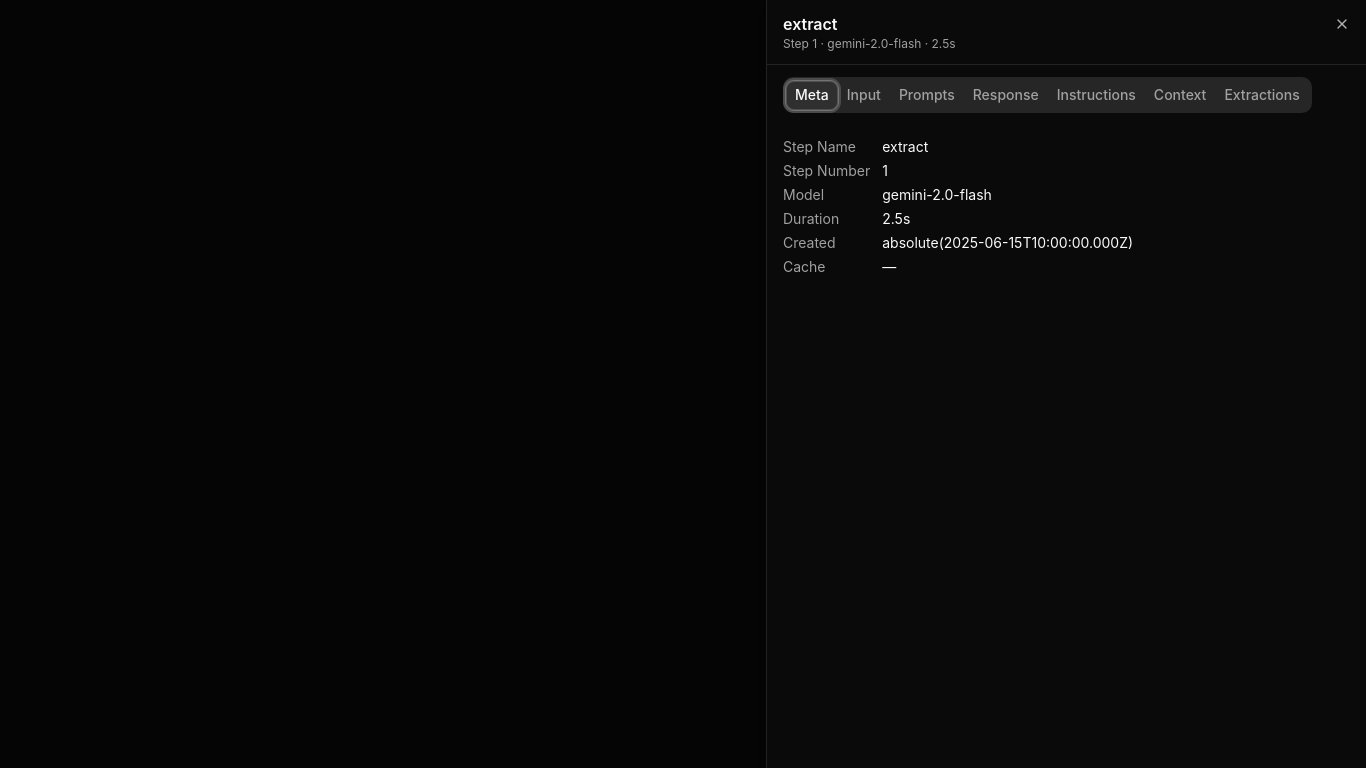
StepDetailPanel › InstructionsTab renders JSON schema from usePipeline metadata
Click the tab "Instructions".
click(1096, 95)  # box [1048,80,1145,110]
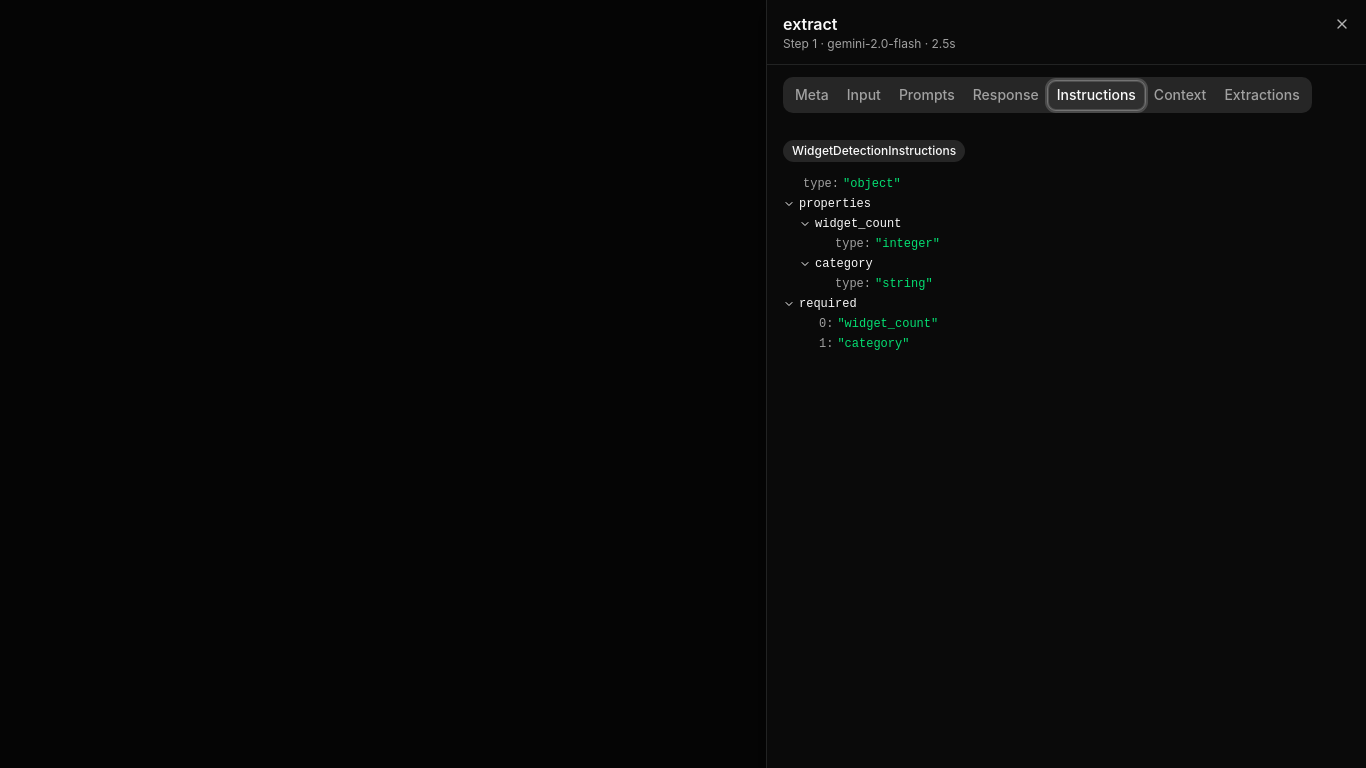
expect the text "WidgetDetectionInstructions" is shown: met, box [783,140,965,162]
expect the text "widget_count" is shown: met, box [815,216,901,232]
expect the text "category" is shown: met, box [815,256,873,272]
